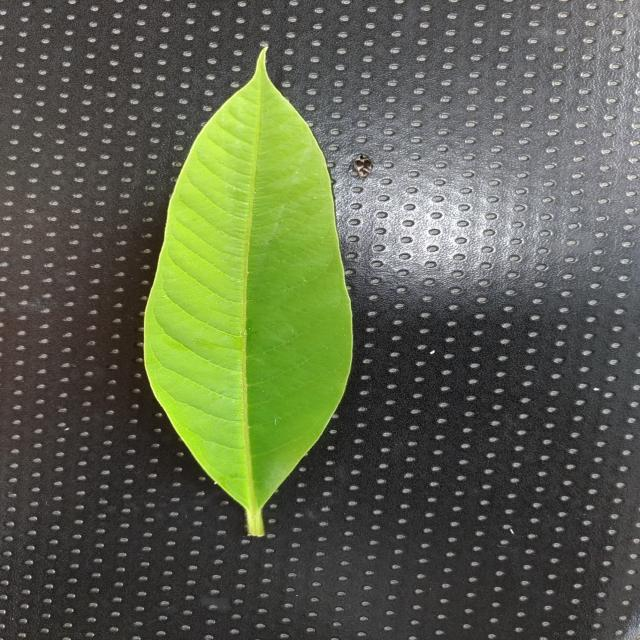coffee: (144, 48, 353, 536)
